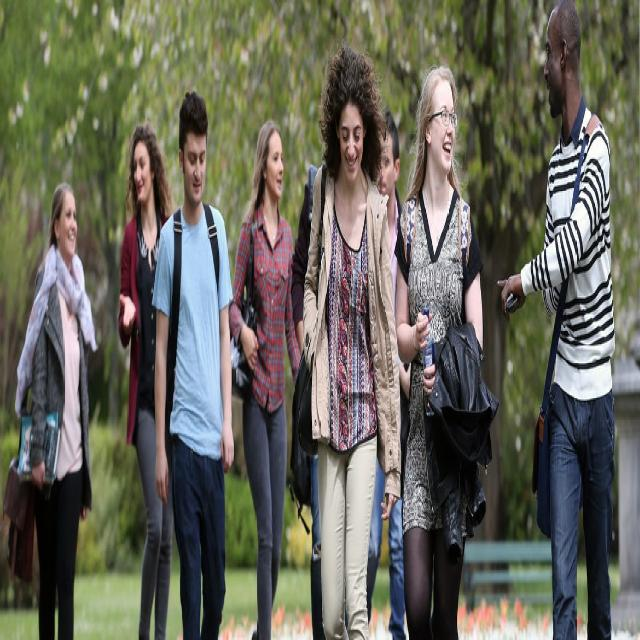body: (496, 0, 618, 639), (392, 59, 502, 638), (300, 36, 403, 638), (150, 84, 236, 638), (0, 175, 100, 638), (226, 113, 301, 640), (116, 122, 174, 638), (366, 106, 407, 638), (289, 159, 326, 640)
